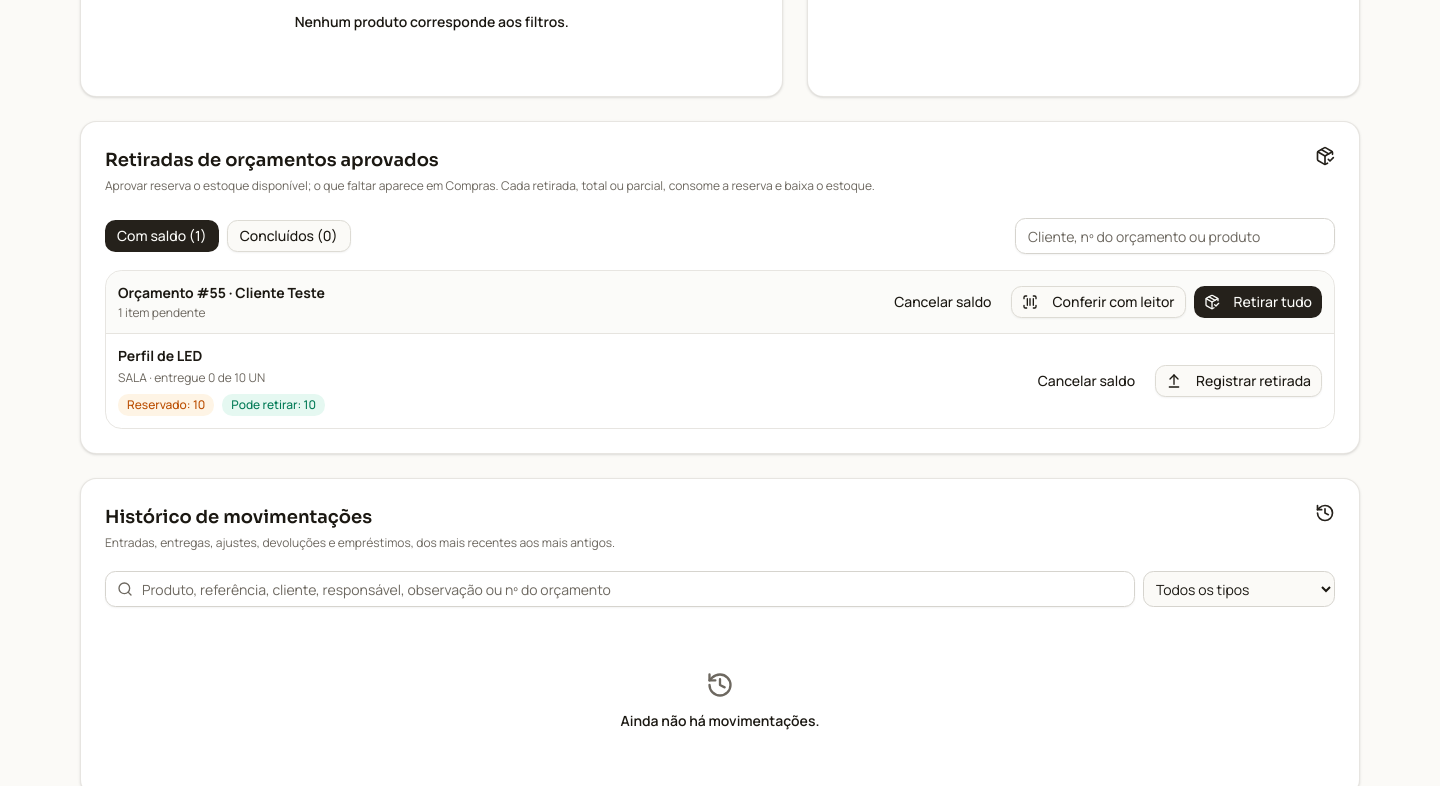
InventoryPage › deixa retirar o que está reservado para o próprio item, mesmo sem estoque livre
This screenshot has width=1440, height=786.
(page scrolled)
Step 1. Click the button "Registrar retirada" → point(1238, 381), box [1155,365,1322,397]
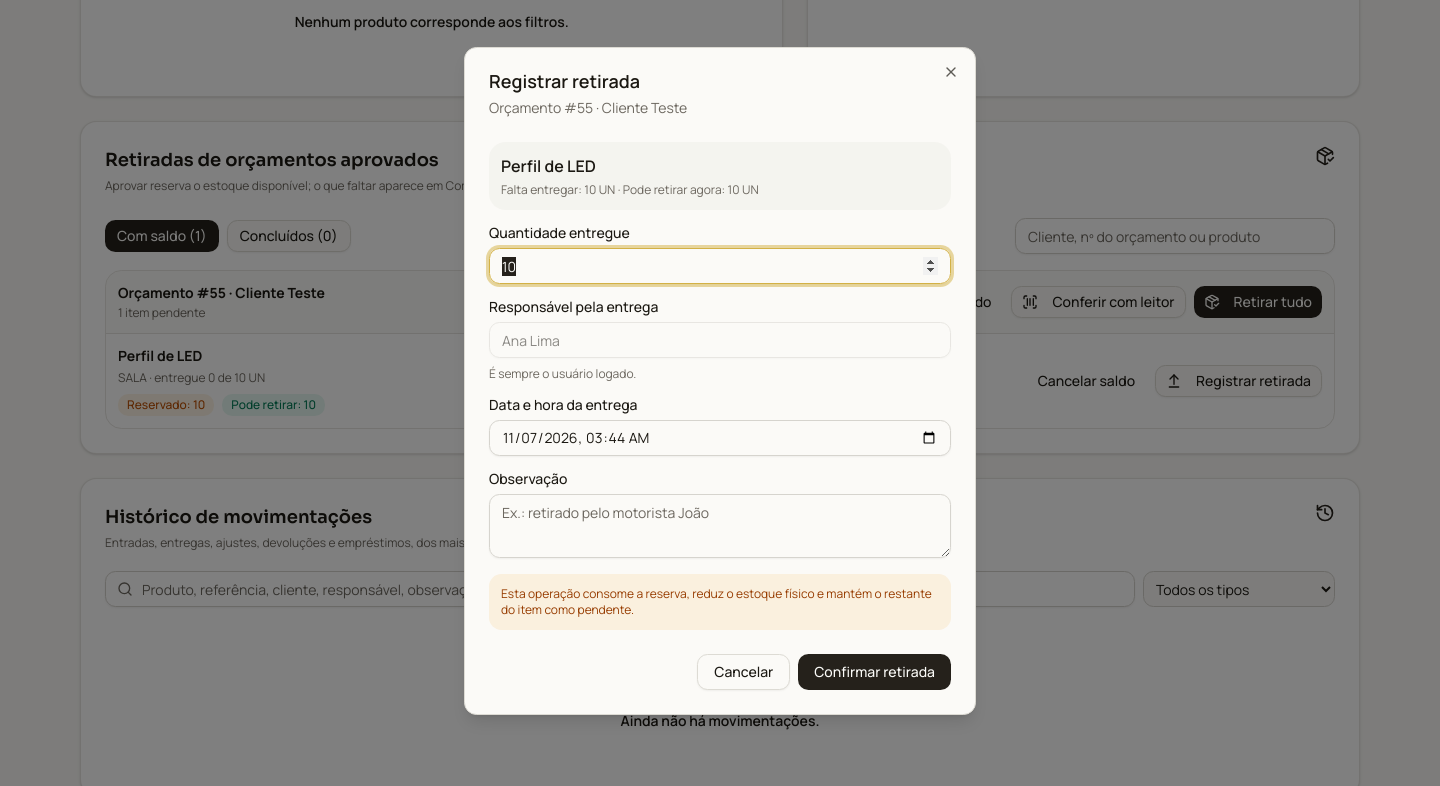
Check: the number field named "Quantidade entregue" holds "10", box [489,248,951,284]
